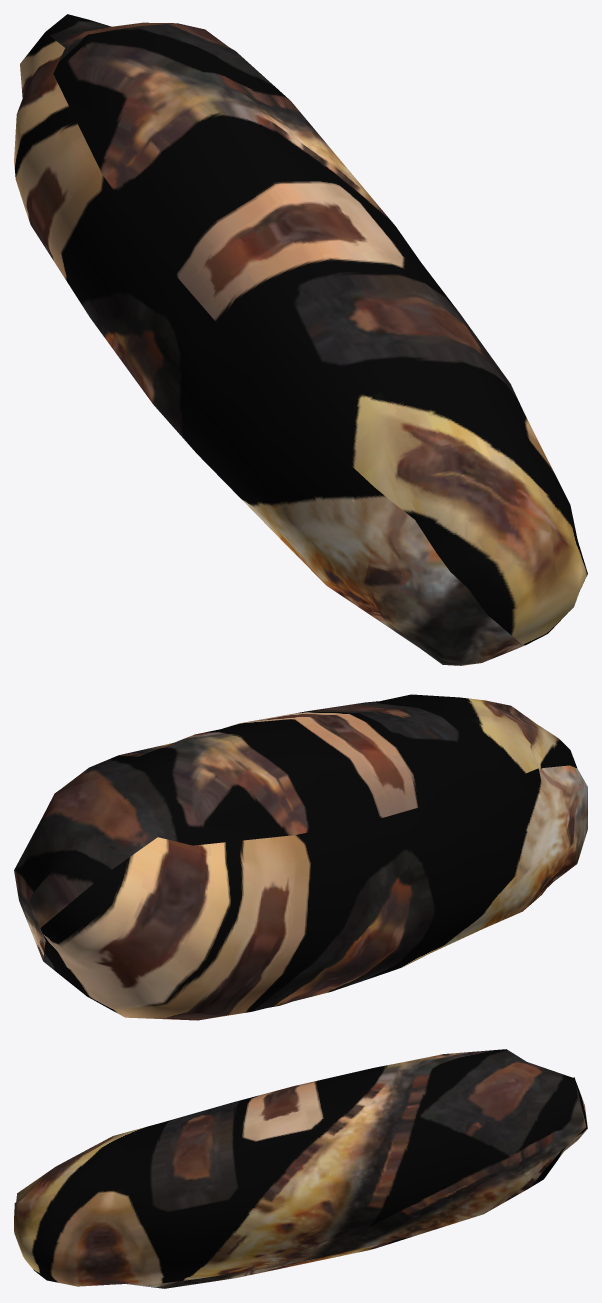
File: ref_grilledcorn.fbx
3 renders of one model, top to bottom at view 1: azimuth 30°, elevation 25°; view 2: azimuth 150°, elevation 25°; view 3: azimuth 270°, elevation 25°, orthographic. The views are drawn at different scales.
Parts seen in each view (by area): view 1: ref_grilledcorn; view 2: ref_grilledcorn; view 3: ref_grilledcorn.
Part boxes in pixels (left/top/right/bottom): ref_grilledcorn: left=14, top=14, right=587, bottom=665; ref_grilledcorn: left=14, top=694, right=587, bottom=1020; ref_grilledcorn: left=14, top=1049, right=587, bottom=1288.
Size of the model in its own units: 31.75 by 43.83 by 100.
